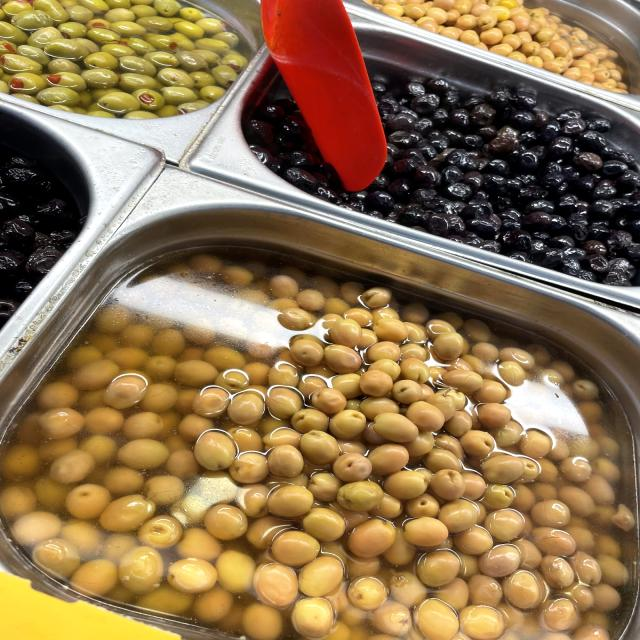olive: (419, 116, 617, 245), (408, 89, 448, 114)
